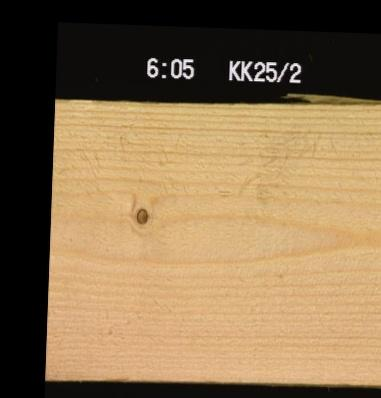dry_knot: (133, 205, 149, 224)
